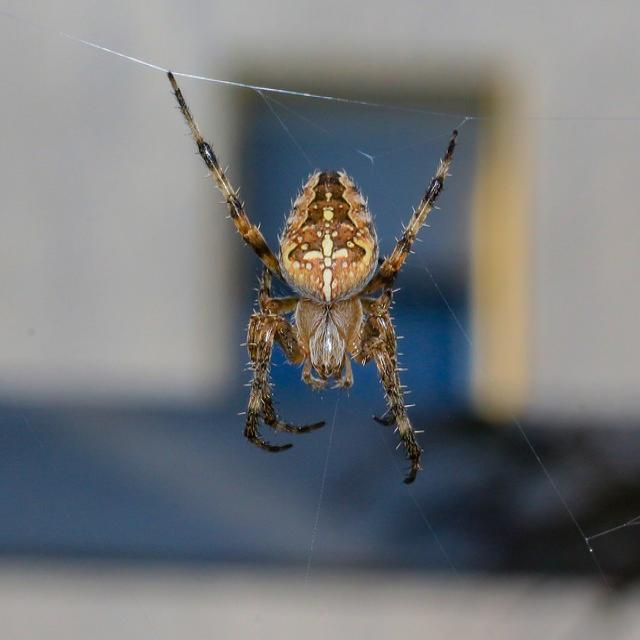spyder: (169, 76, 458, 483)
